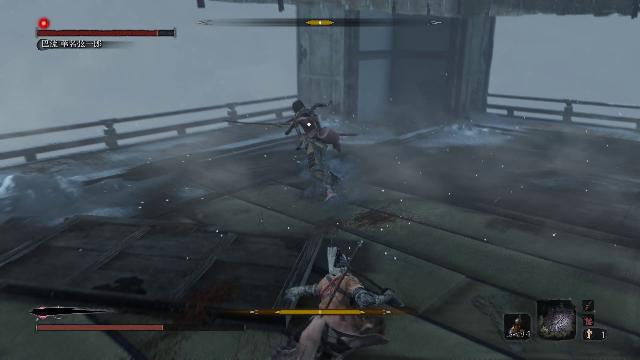sk: (280, 248, 398, 360)
